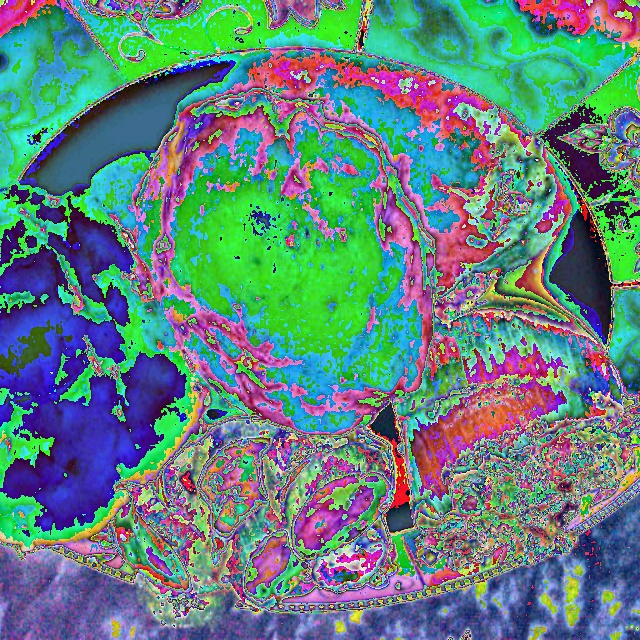background: (0, 90, 640, 629)
